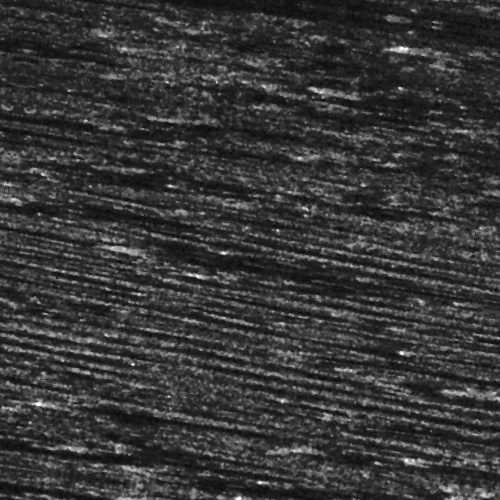object: (310, 19, 487, 36), (141, 472, 256, 489), (59, 461, 142, 478), (396, 426, 500, 437), (178, 142, 219, 161), (0, 457, 66, 468), (0, 144, 54, 157), (124, 454, 165, 467), (319, 117, 402, 122), (172, 127, 203, 130)
shadow: (101, 461, 470, 478), (199, 472, 457, 489), (0, 457, 285, 468), (145, 454, 330, 467), (0, 144, 139, 157), (399, 19, 500, 36), (199, 142, 260, 161), (0, 471, 77, 484), (361, 117, 490, 122), (0, 162, 138, 165), (188, 127, 312, 130)
